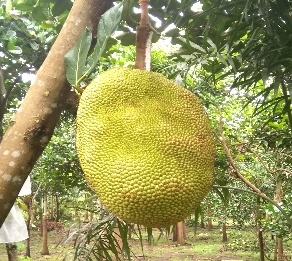Mit: (77, 68, 216, 227)
